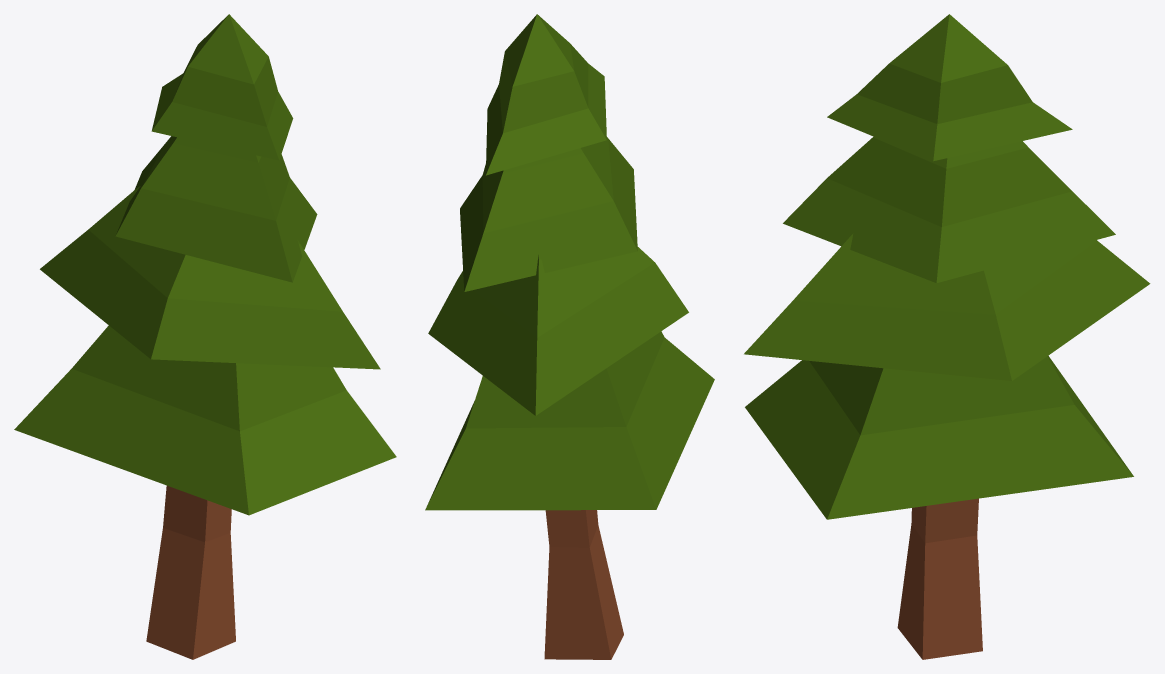
Rendered from three-big.gltf.
3 renders of one model, left to right at view 1: azimuth 30°, elevation 25°; view 2: azimuth 150°, elevation 25°; view 3: azimuth 270°, elevation 25°, orthographic. The views are drawn at different scales.
Parts seen in each view (by area): view 1: clloud.003; view 2: clloud.003; view 3: clloud.003.
Boxes of the visible parts, x1,y1,x2,y2 form: clloud.003: [14, 14, 396, 659]; clloud.003: [425, 14, 714, 659]; clloud.003: [744, 14, 1150, 659].
Bounding box in the file's own units: 1.44 × 3.07 × 1.75.
